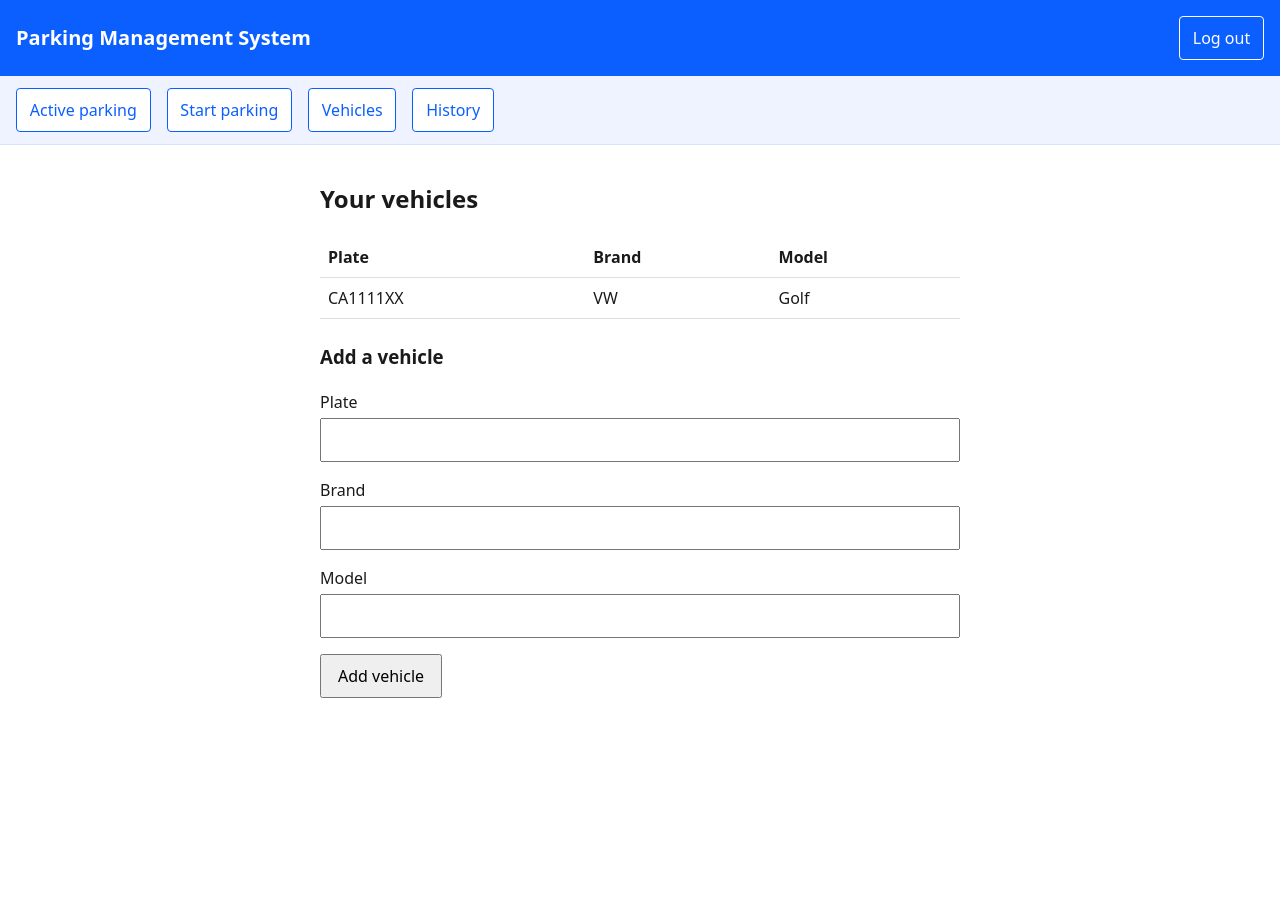
Test: VehiclesPage › renders the duplicate-plate message on a 409, keeps the typed values and leaves the list unchanged
The width and height of the screenshot is (1280, 900).
Check: the text "CA1111XX" is shown, box x1=320 y1=277 x2=585 y2=318
Type "CA1111XX" into the field labelled "Plate" at (640, 440), box x1=320 y1=418 x2=960 y2=462
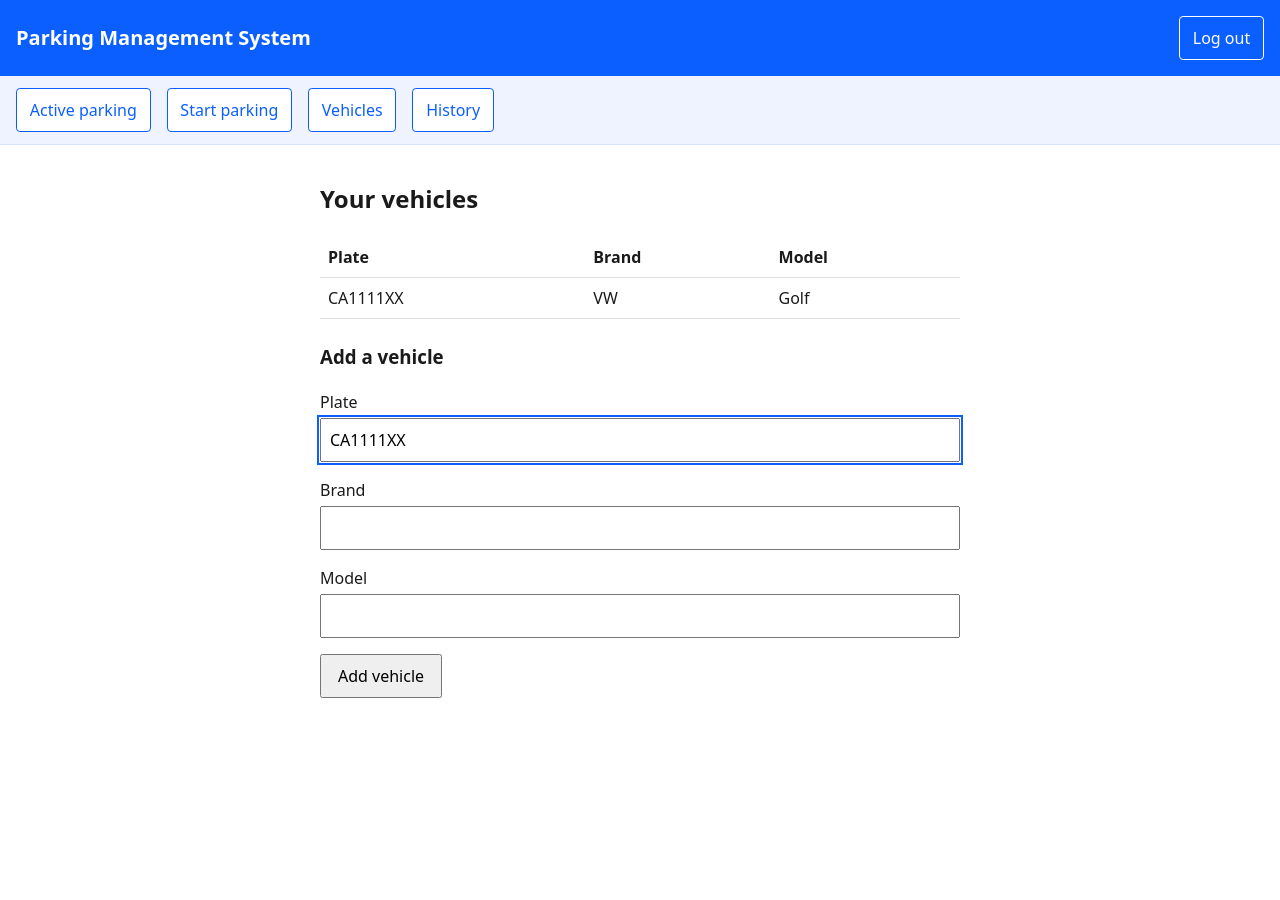
Type "VW" into the field labelled "Brand" at (640, 528), box x1=320 y1=506 x2=960 y2=550
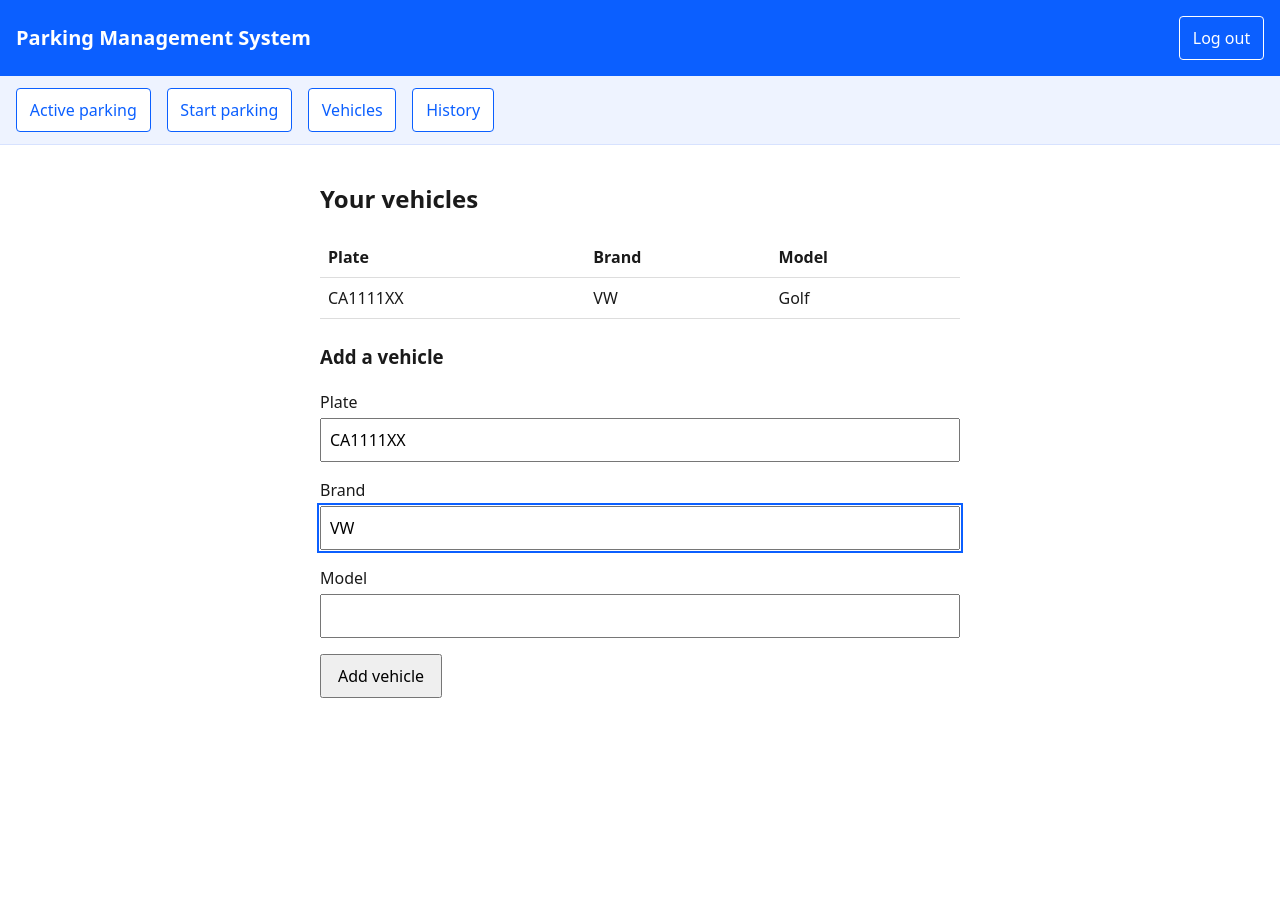
Type "Polo" into the field labelled "Model" at (640, 616), box x1=320 y1=594 x2=960 y2=638
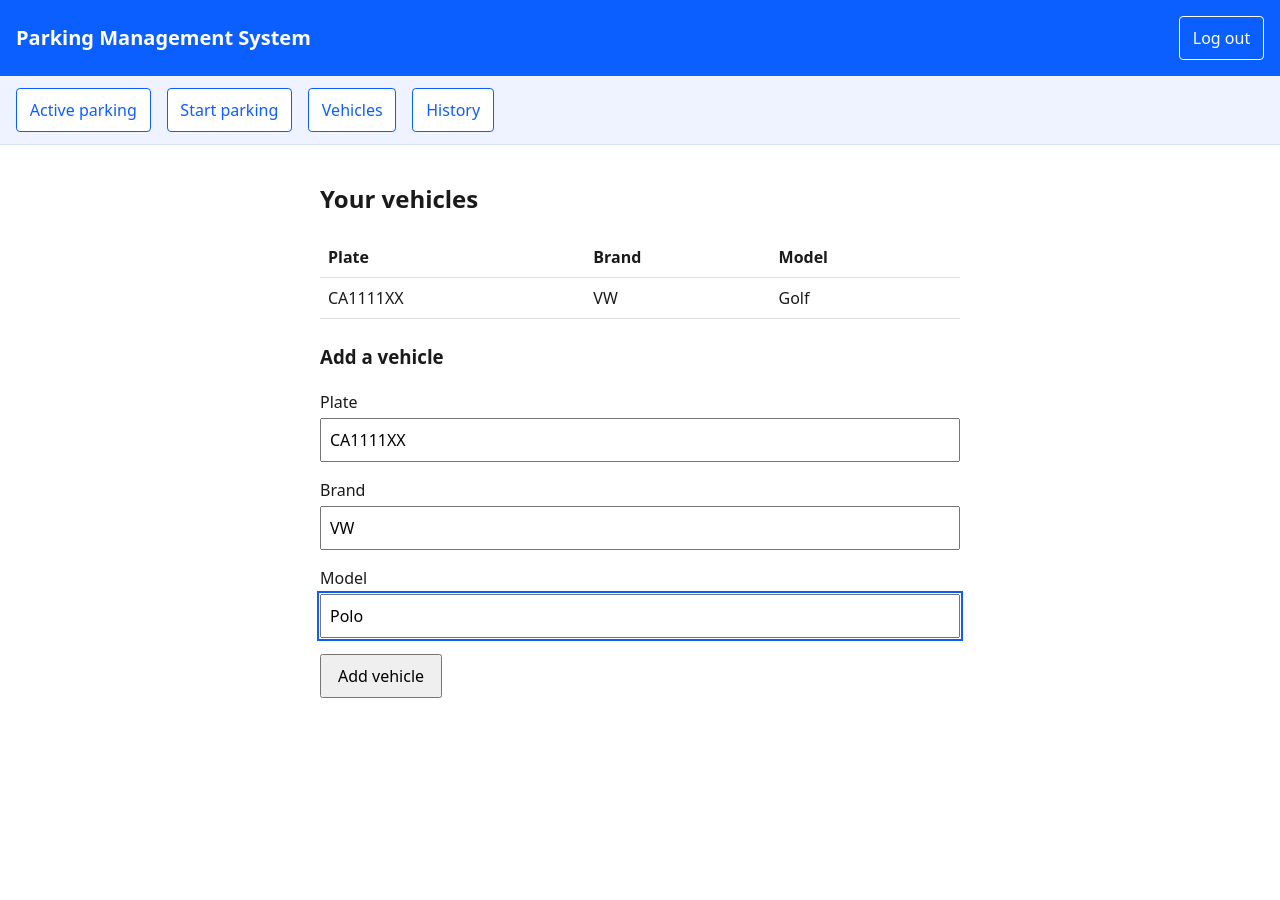
Click the button "Add vehicle" at (381, 676), box x1=320 y1=654 x2=442 y2=698
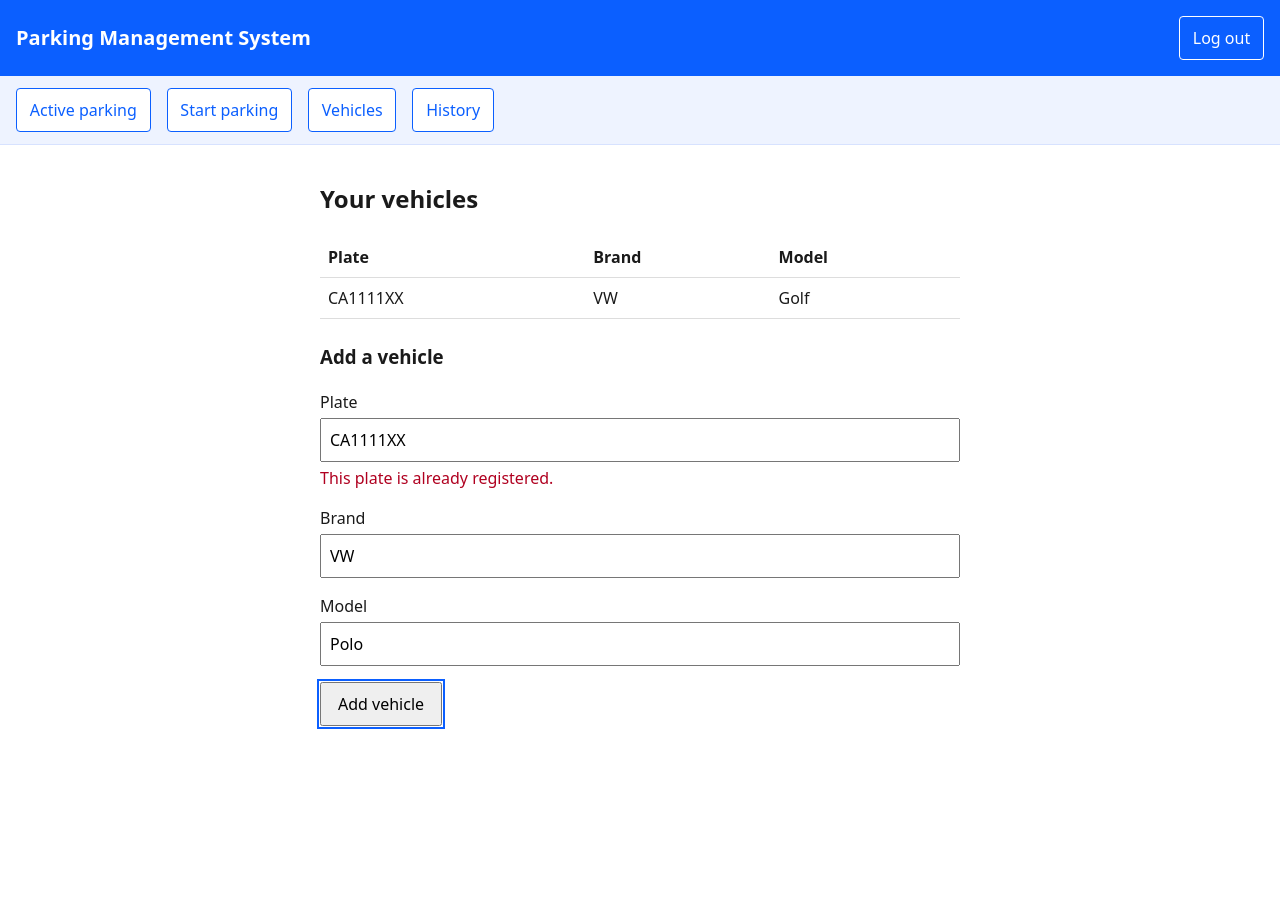
Check: the text "CA1111XX" is shown once, box x1=320 y1=277 x2=585 y2=318
Check: the text "This plate is already registered." is shown, box x1=320 y1=467 x2=553 y2=489
